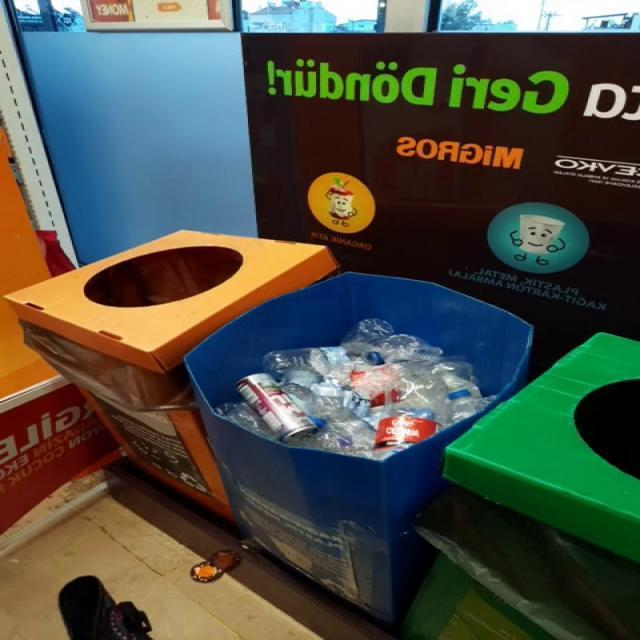Metal: (236, 374, 317, 443)
